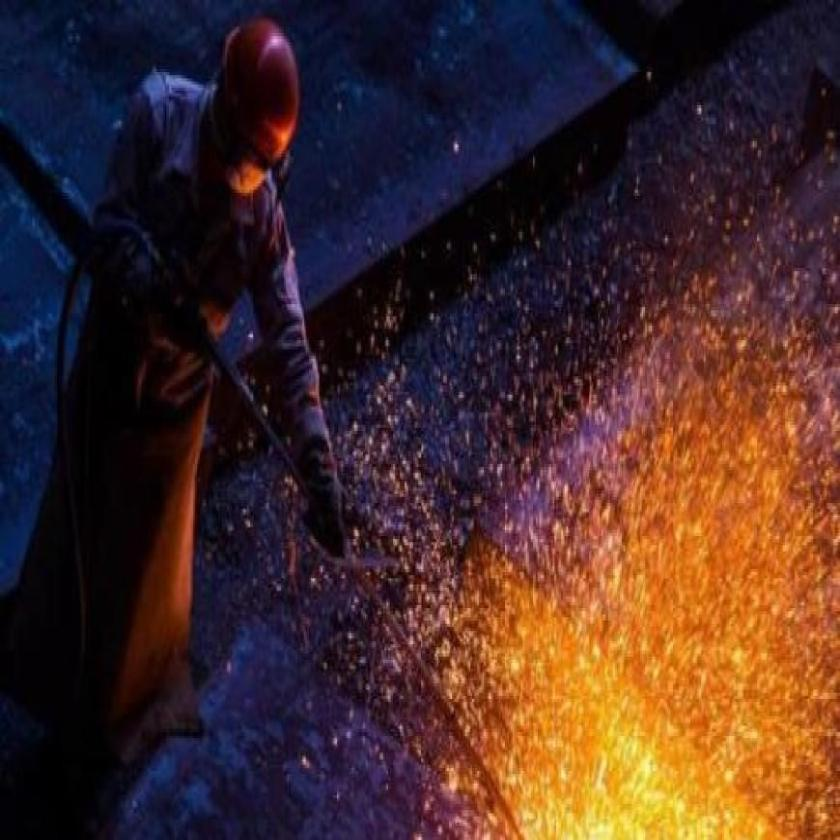Con_casco: (208, 13, 302, 215)
